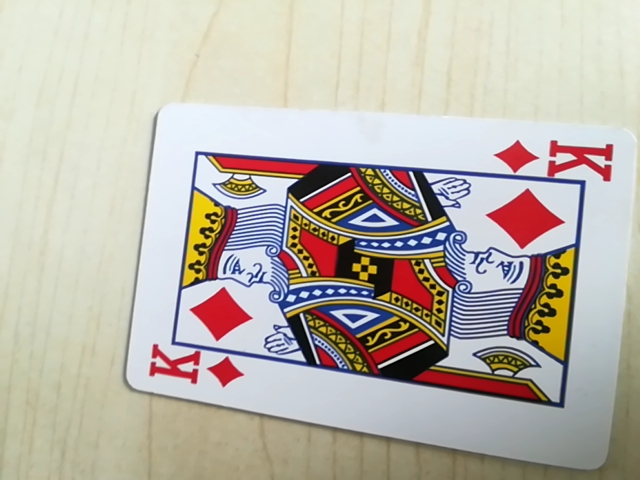fk k: (500, 133, 617, 182), (141, 344, 246, 391)
